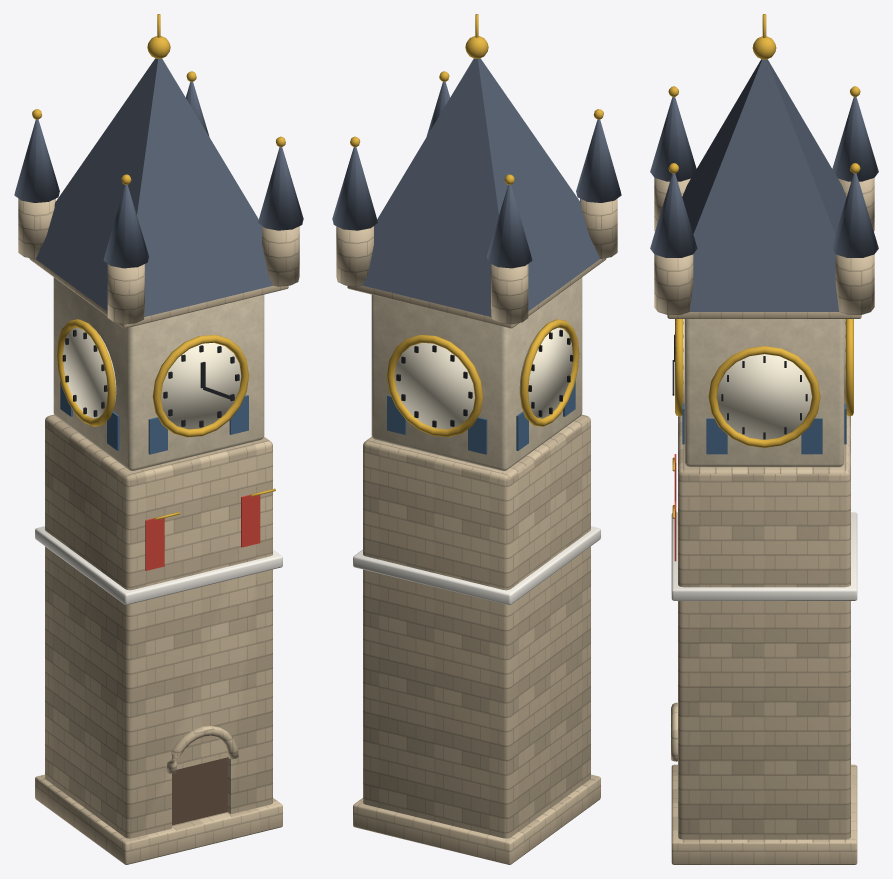
The model's file is clock_tower.gltf.
3 renders of one model, left to right at view 1: azimuth 30°, elevation 25°; view 2: azimuth 150°, elevation 25°; view 3: azimuth 270°, elevation 25°, orthographic.
Parts seen in each view (by area): view 1: clock_tower_mesh; view 2: clock_tower_mesh; view 3: clock_tower_mesh.
Part boxes in pixels (left/top/right/bottom): clock_tower_mesh: left=14, top=14, right=303, bottom=864; clock_tower_mesh: left=332, top=14, right=621, bottom=864; clock_tower_mesh: left=650, top=14, right=878, bottom=864.
Size of what is drawn, in the model's own units: 10.49 by 41.5 by 10.6.
Materials: 10 (2 with a texture image).
